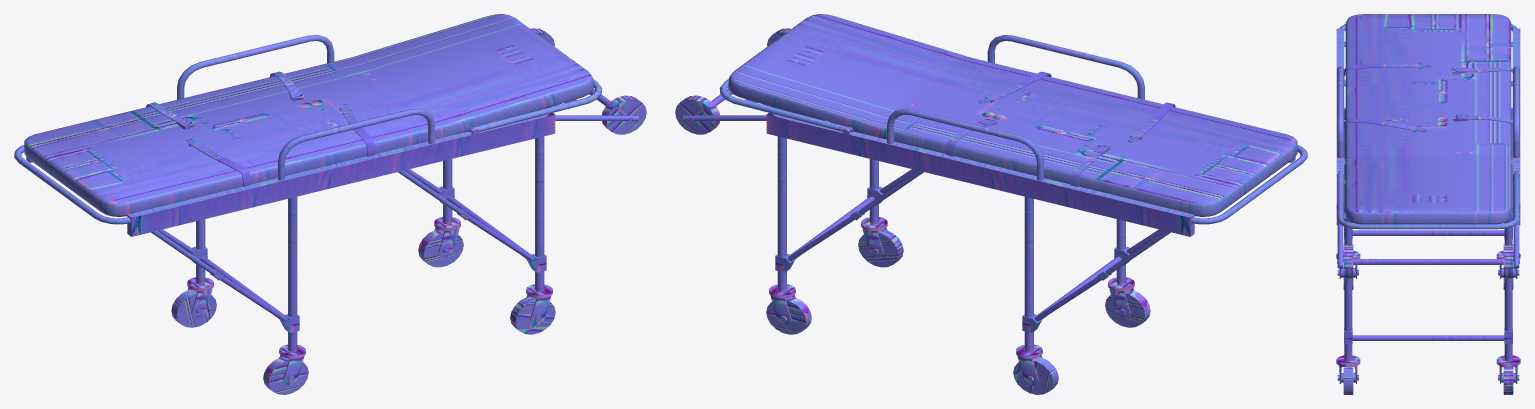
File: Stretcher.glb
The picture shows the model from 3 angles, left to right: view 1: azimuth 30°, elevation 25°; view 2: azimuth 150°, elevation 25°; view 3: azimuth 270°, elevation 25°; orthographic projection. The views are drawn at different scales.
Parts seen in each view (by area): view 1: Stretcher; view 2: Stretcher; view 3: Stretcher.
Part boxes in pixels (<box>): Stretcher: <box>14,14,646,394</box>; Stretcher: <box>675,14,1307,394</box>; Stretcher: <box>1336,14,1520,394</box>.
Bounding box in the file's own units: 19.91 × 8.99 × 6.71.
5 materials, 5 textured.
